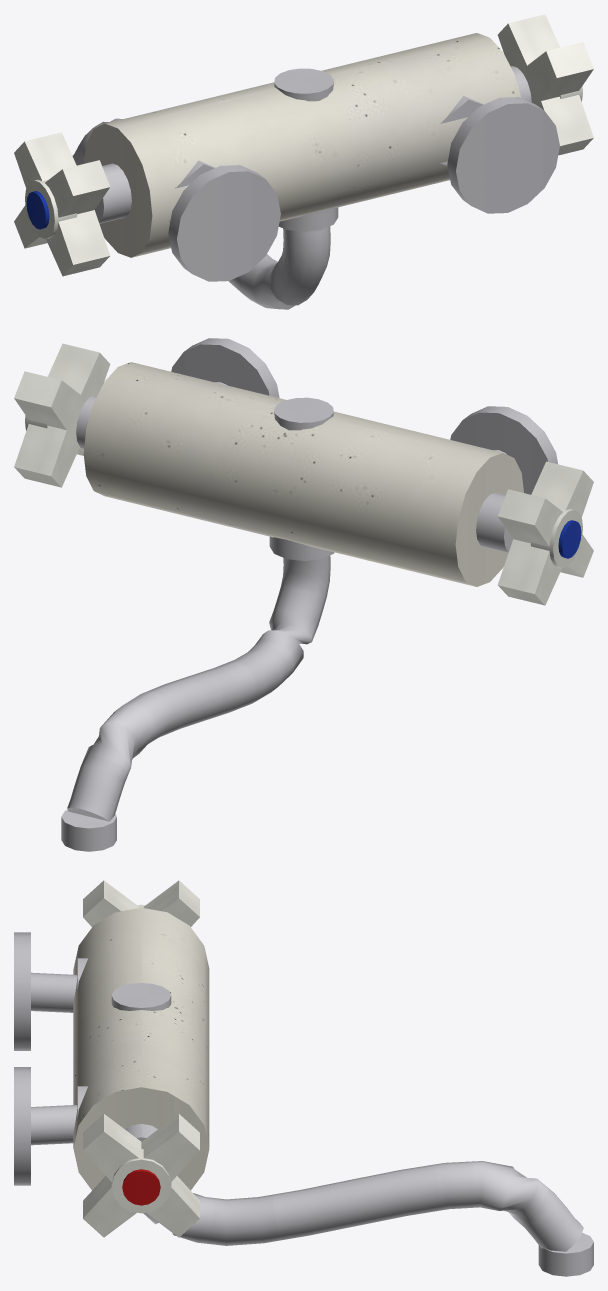
The model's file is faucet_ceramic_web.glb.
3 renders of one model, top to bottom at view 1: azimuth 30°, elevation 25°; view 2: azimuth 150°, elevation 25°; view 3: azimuth 270°, elevation 25°, orthographic.
Parts seen in each view (by area): view 1: Chrome_FaucetCeramic, Chrome_Spout; view 2: Chrome_FaucetCeramic, Chrome_Spout; view 3: Chrome_FaucetCeramic, Chrome_Spout.
Part boxes in pixels (box(x1,y1,x2,y2)): Chrome_FaucetCeramic: box(14, 14, 593, 281); Chrome_Spout: box(72, 118, 338, 309); Chrome_FaucetCeramic: box(14, 338, 593, 605); Chrome_Spout: box(61, 536, 334, 851); Chrome_FaucetCeramic: box(14, 880, 209, 1237); Chrome_Spout: box(143, 1161, 593, 1276).
Bounding box in the file's own units: 0.288 × 0.14 × 0.273.
Materials: 5 (5 with a texture image).
